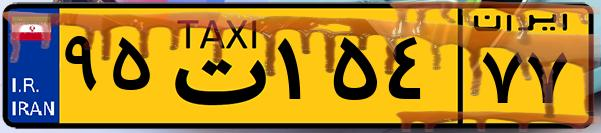1: (270, 28, 330, 110)
4: (385, 28, 445, 110)
5: (330, 28, 385, 110), (110, 28, 158, 98)
7: (475, 38, 525, 113), (525, 38, 570, 115)
9: (57, 26, 110, 100)
ت: (158, 12, 270, 120)
